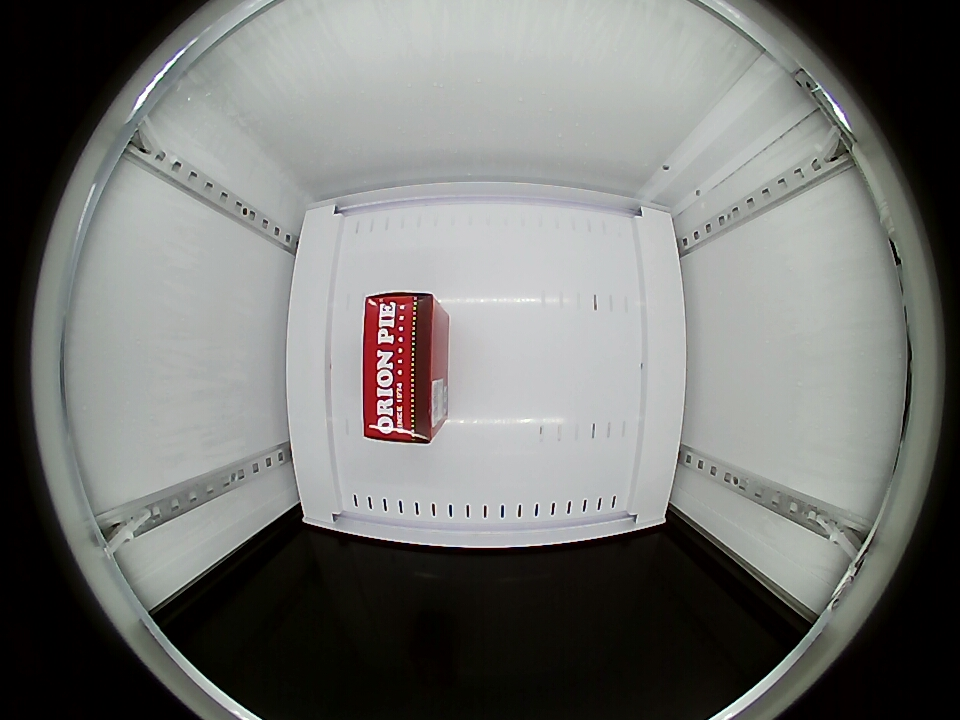haoliyou: (363, 292, 445, 443)
